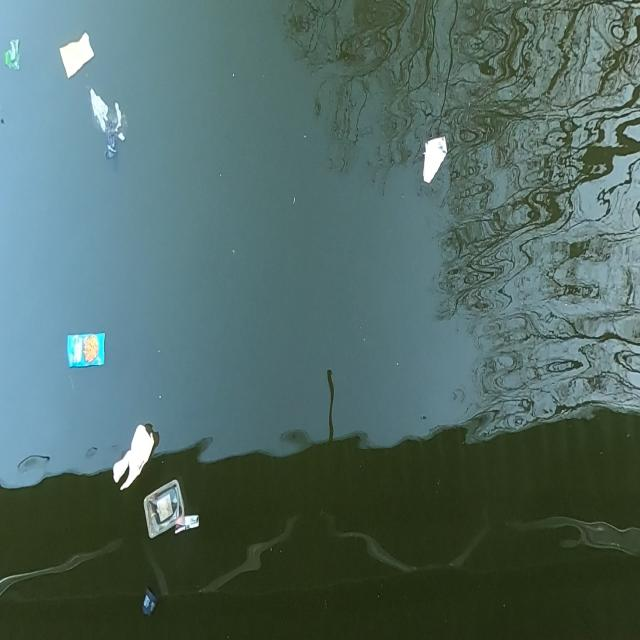Autre plastique: (142, 476, 188, 544), (60, 328, 112, 374), (414, 132, 452, 194)
Sac plastique: (91, 101, 133, 173)
